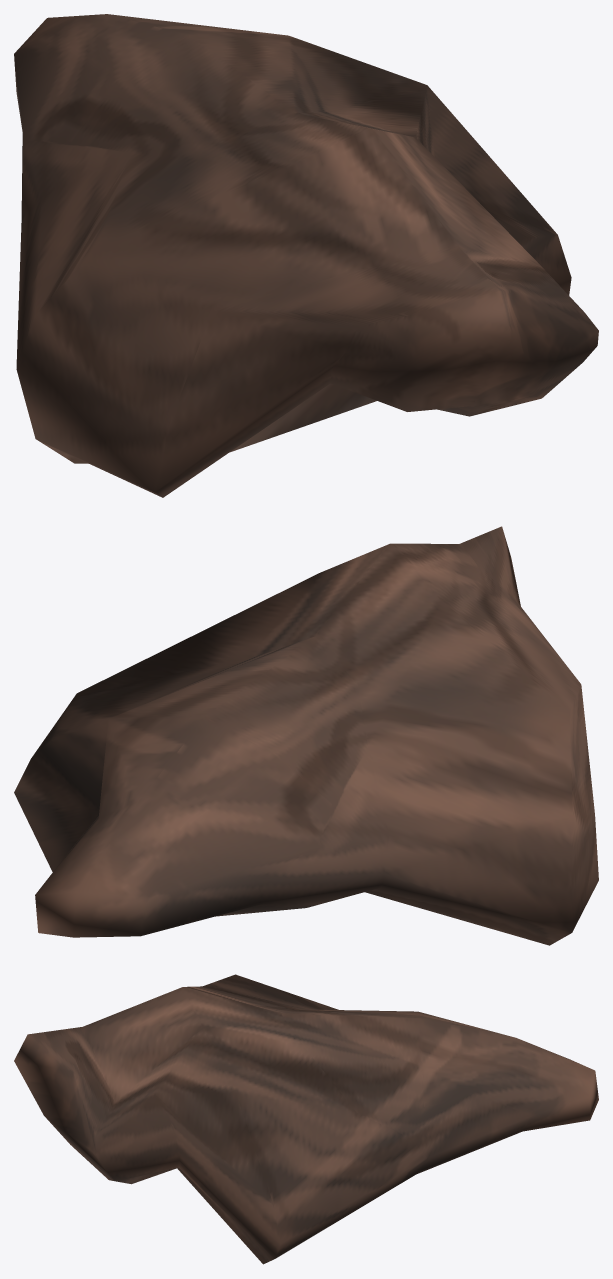
The model's file is Rock2_ALT1_MESH.fbx.
The picture shows the model from 3 angles, top to bottom: view 1: azimuth 30°, elevation 25°; view 2: azimuth 150°, elevation 25°; view 3: azimuth 270°, elevation 25°; orthographic projection. The views are drawn at different scales.
Parts seen in each view (by area): view 1: Rock2WIP1:pCube1; view 2: Rock2WIP1:pCube1; view 3: Rock2WIP1:pCube1.
Boxes of the visible parts, x1=… form: Rock2WIP1:pCube1: x1=14, y1=14, x2=598, y2=497; Rock2WIP1:pCube1: x1=14, y1=526, x2=598, y2=945; Rock2WIP1:pCube1: x1=14, y1=974, x2=598, y2=1264.
Bounding box in the file's own units: 14.59 × 8.21 × 21.36.
Materials: 1 (1 with a texture image).
